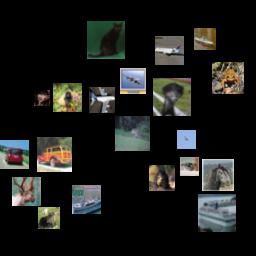airplane: (155, 36, 184, 65), (89, 87, 115, 113), (120, 68, 146, 94)
automobile: (37, 137, 72, 172), (0, 140, 29, 169)
bird: (153, 78, 191, 116), (177, 130, 196, 149), (180, 157, 199, 176)
cat: (87, 21, 125, 59)
deer: (115, 116, 150, 151), (12, 177, 41, 206), (38, 207, 60, 229)
dog: (53, 83, 82, 112)
frog: (212, 62, 244, 94), (149, 165, 175, 191), (34, 90, 50, 106)
ship: (198, 194, 236, 232), (72, 185, 101, 214), (194, 28, 216, 50)
